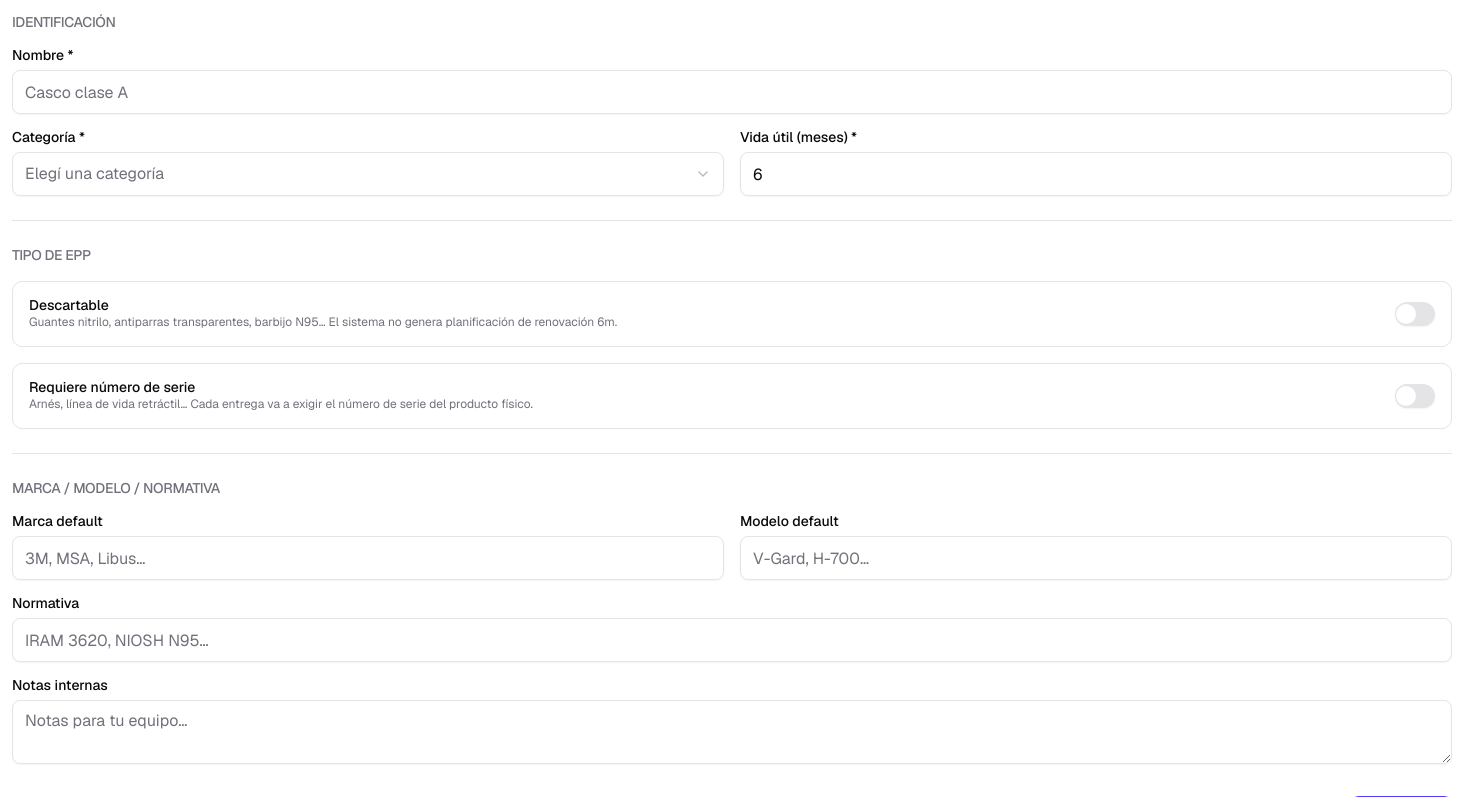
Scenario: ItemForm › toggle es_descartable=true → input vida_util_meses queda disabled
Expected: the number field labelled "Vida útil (meses) *" is enabled, [740,152,1452,196]
Click the switch named "Toggle descartable". click: [1415, 314]
box: [1395,302,1435,326]
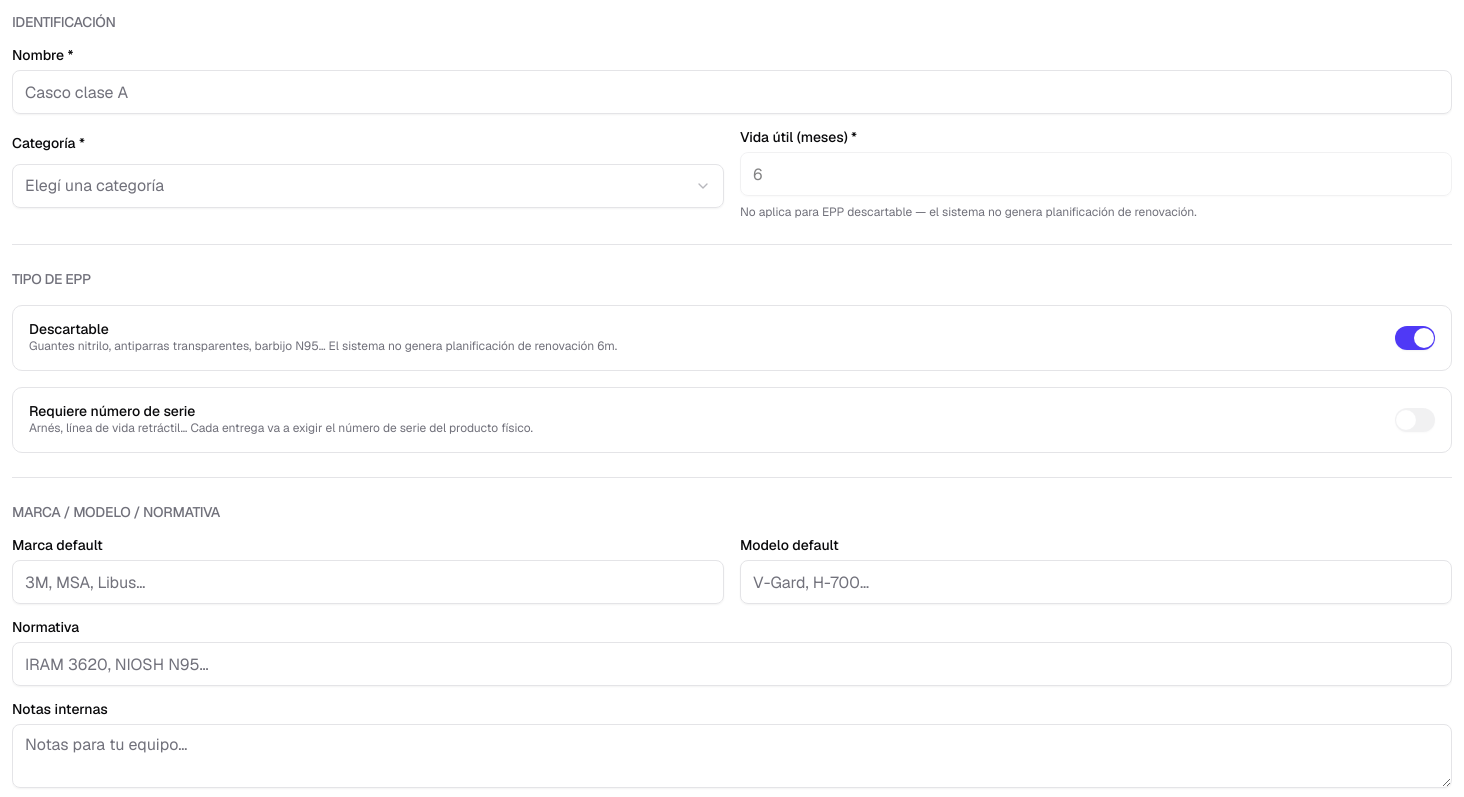
Now the number field labelled "Vida útil (meses) *" is disabled, box [740,152,1452,196]
Now the text "No aplica para EPP descartable" is shown, box [740,204,1197,220]
